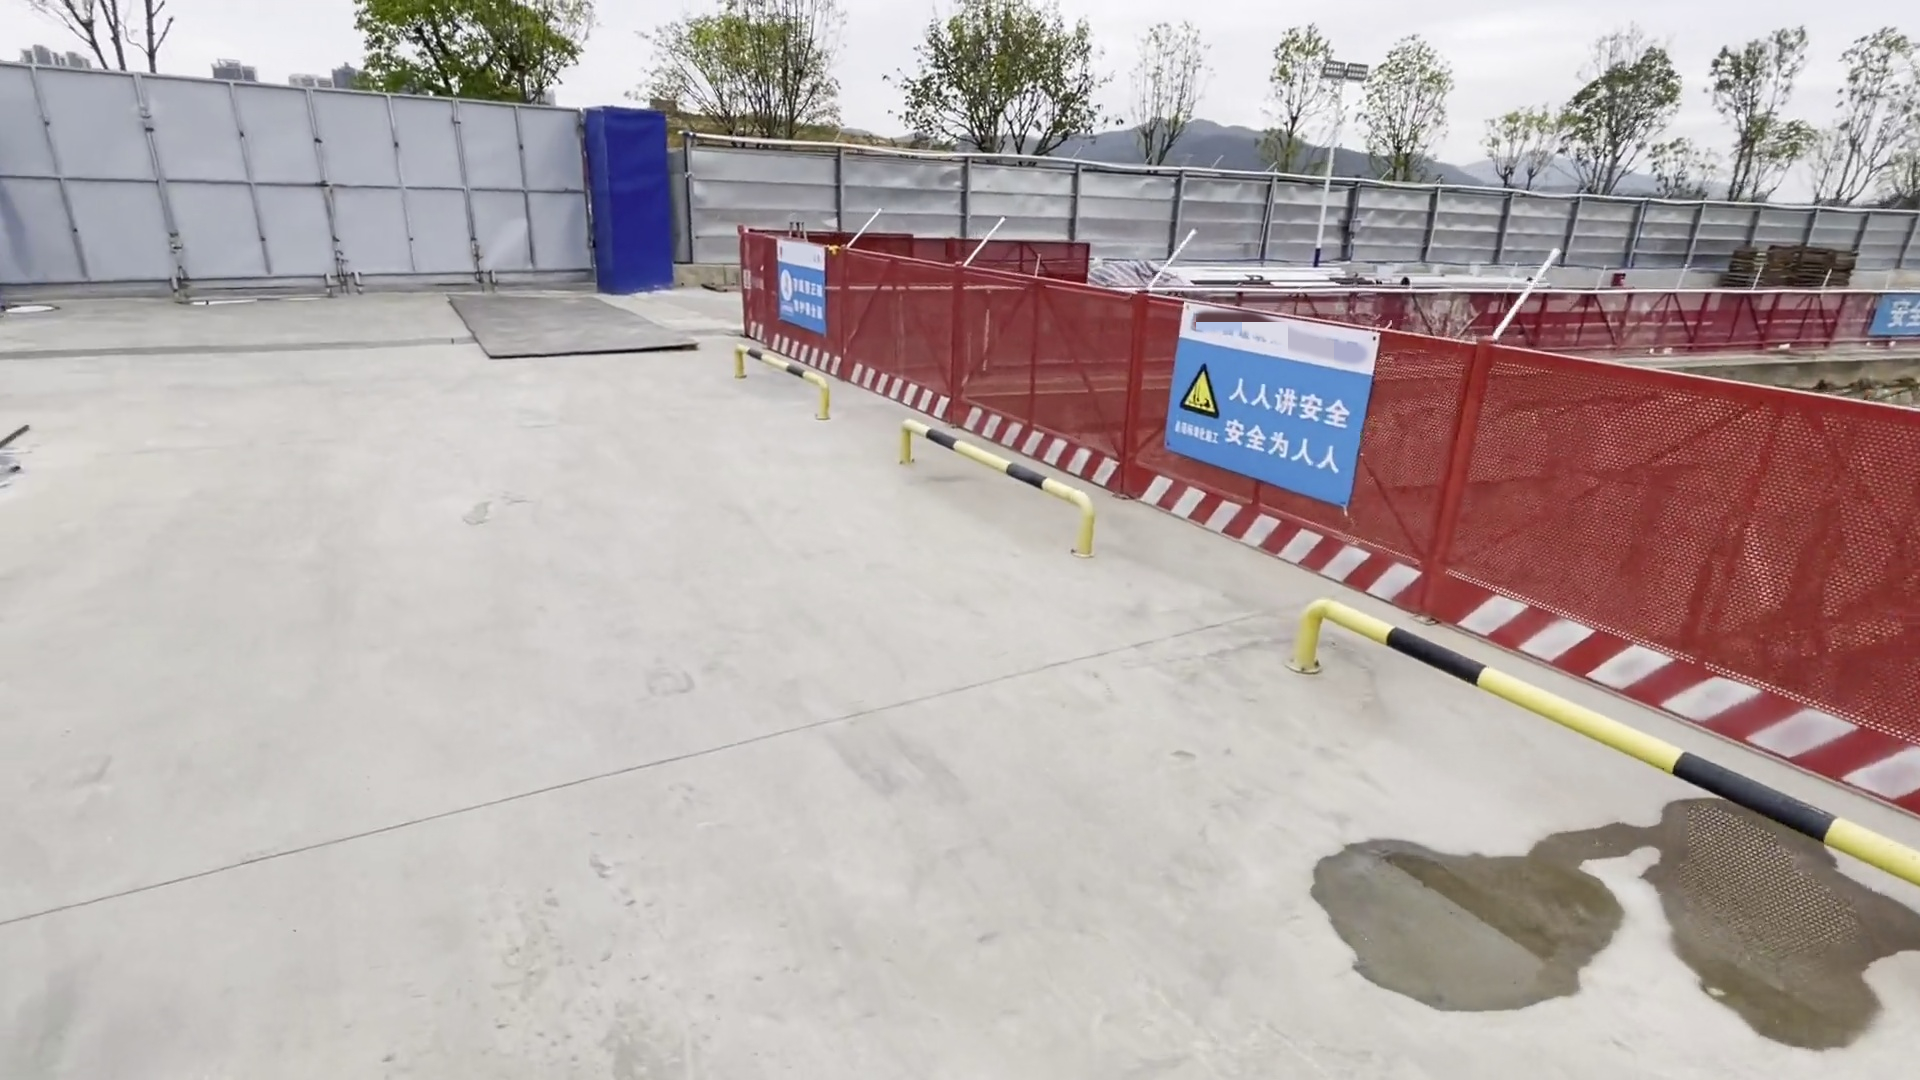fence: (723, 225, 1920, 823)
slogan: (1168, 349, 1349, 488), (781, 266, 828, 323)
